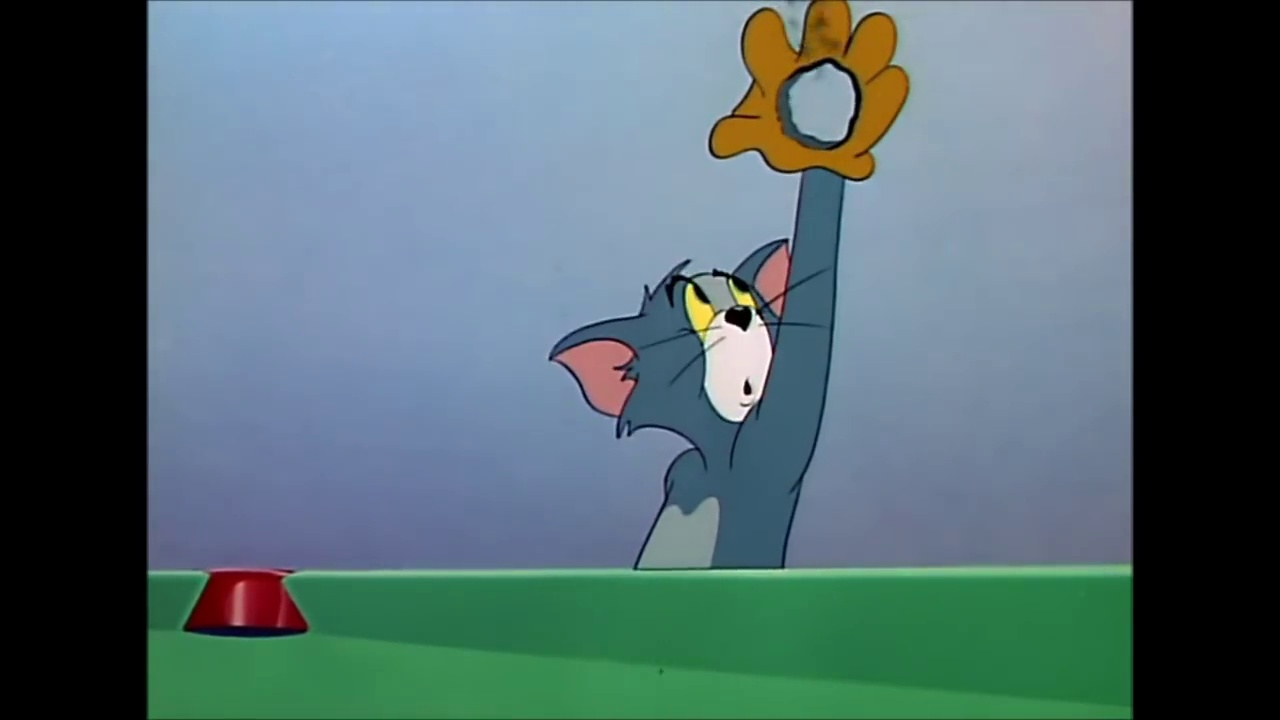surprised: (666, 272, 766, 427)
